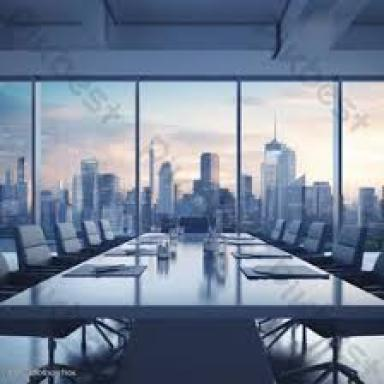glass_panel: (38, 81, 135, 250), (243, 82, 334, 250), (140, 82, 237, 233), (341, 82, 384, 259), (0, 84, 31, 233)
